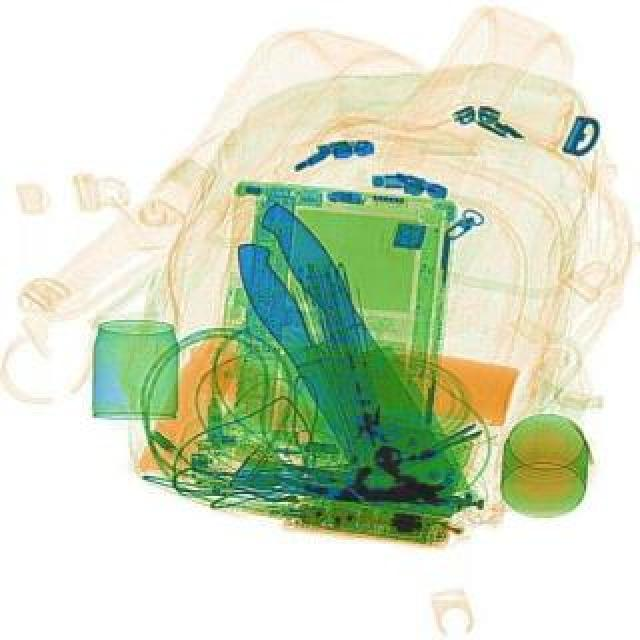knife: (200, 190, 456, 522), (224, 208, 474, 528)
